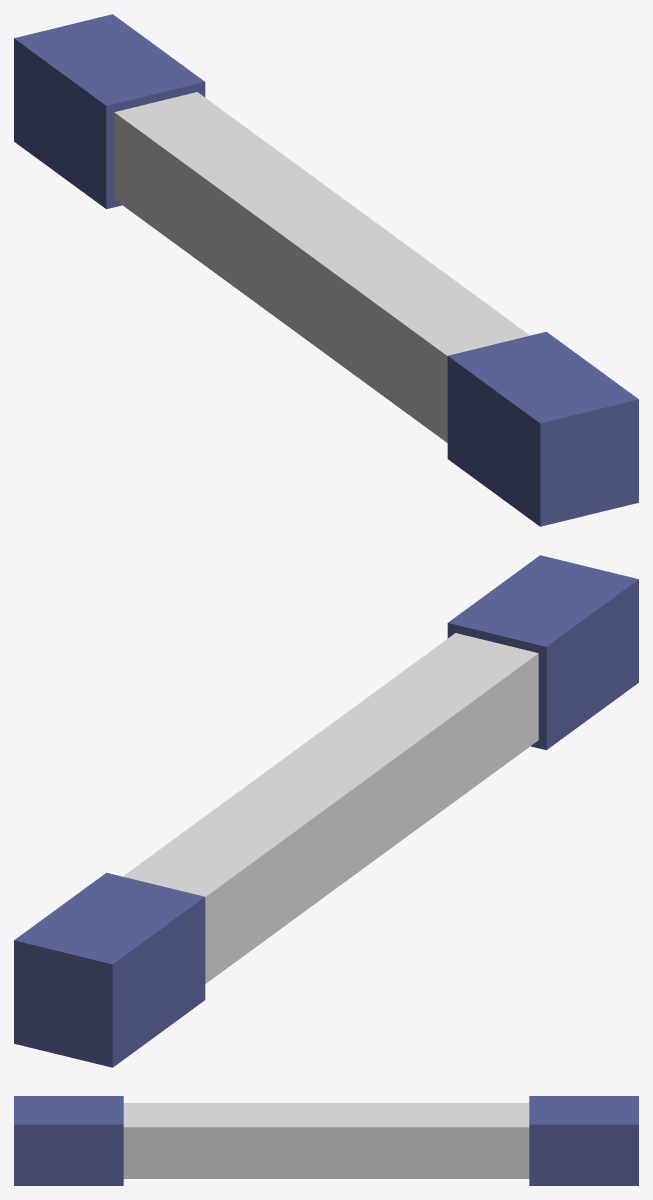
Rendered from 2fuseShikakuBlue.fbx.
3 views of the same model, one above another, from view 1: azimuth 30°, elevation 25°; view 2: azimuth 150°, elevation 25°; view 3: azimuth 270°, elevation 25° (orthographic). The views are drawn at different scales.
Parts seen in each view (by area): view 1: 立方体; view 2: 立方体; view 3: 立方体.
Part boxes in pixels (box(x1,y1,x2,y2)): 立方体: box(14, 14, 638, 526); 立方体: box(14, 555, 638, 1067); 立方体: box(14, 1096, 638, 1185).
Bounding box in the file's own units: 238 × 238 × 2193.
